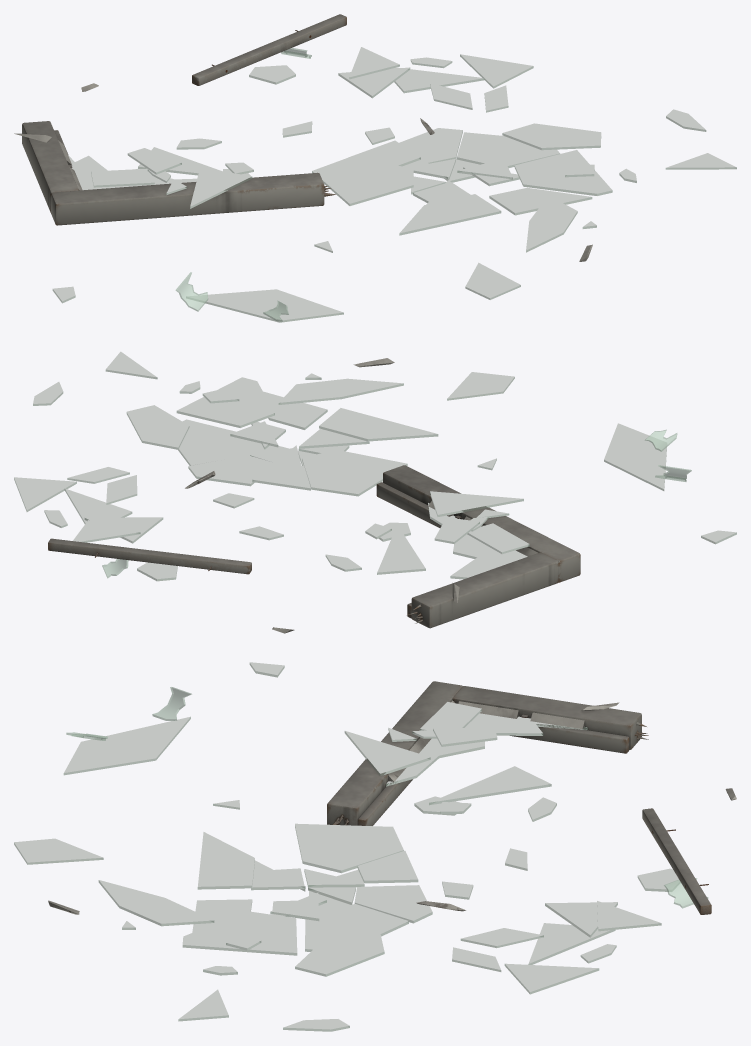
The model's file is SM_GlassShards.fbx.
The picture shows the model from 3 angles, top to bottom: view 1: azimuth 30°, elevation 25°; view 2: azimuth 150°, elevation 25°; view 3: azimuth 270°, elevation 25°; orthographic projection. The views are drawn at different scales.
Parts seen in each view (by area): view 1: SM_GlassShards; view 2: SM_GlassShards; view 3: SM_GlassShards.
Part boxes in pixels (<box>): SM_GlassShards: <box>14,14,736,322</box>; SM_GlassShards: <box>14,351,736,633</box>; SM_GlassShards: <box>14,662,736,1031</box>.
Bounding box in the file's own units: 1.17 × 0.0494 × 0.9775.
Materials: 3 (1 with a texture image).
